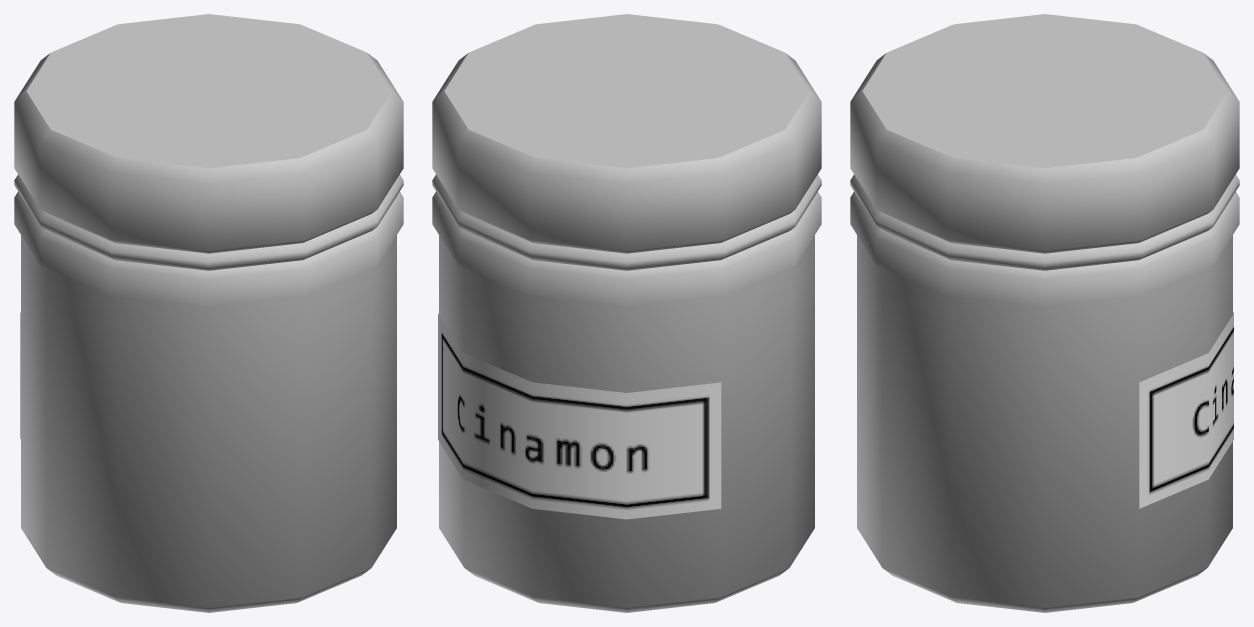
The model's file is Powder_Cinamon.fbx.
The picture shows the model from 3 angles, left to right: view 1: azimuth 30°, elevation 25°; view 2: azimuth 150°, elevation 25°; view 3: azimuth 270°, elevation 25°; orthographic projection.
Parts seen in each view (by area): view 1: Powder; view 2: Powder; view 3: Powder.
Part boxes in pixels (x1,y1,x2,y2): Powder: (14,14,403,612); Powder: (432,14,821,612); Powder: (850,14,1239,612).
Bounding box in the file's own units: 0.0676 × 0.0676 × 0.0858.
